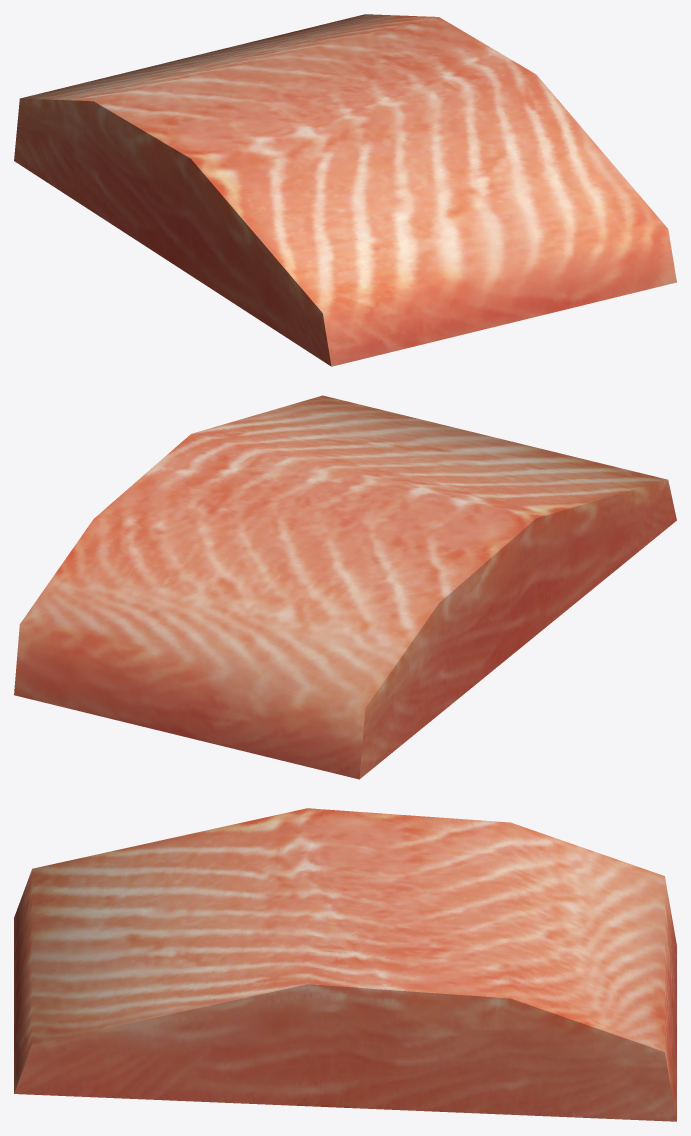
The model's file is Fish.fbx.
3 renders of one model, top to bottom at view 1: azimuth 30°, elevation 25°; view 2: azimuth 150°, elevation 25°; view 3: azimuth 270°, elevation 25°, orthographic. The views are drawn at different scales.
Visible parts, largest first — view 1: Fish; view 2: Fish; view 3: Fish.
Part boxes in pixels (left/top/right/bottom): Fish: left=14, top=14, right=676, bottom=366; Fish: left=14, top=395, right=676, bottom=779; Fish: left=14, top=808, right=676, bottom=1121.
Size of the model in its own units: 1.06 by 0.3853 by 1.68.
1 material, 1 textured.
